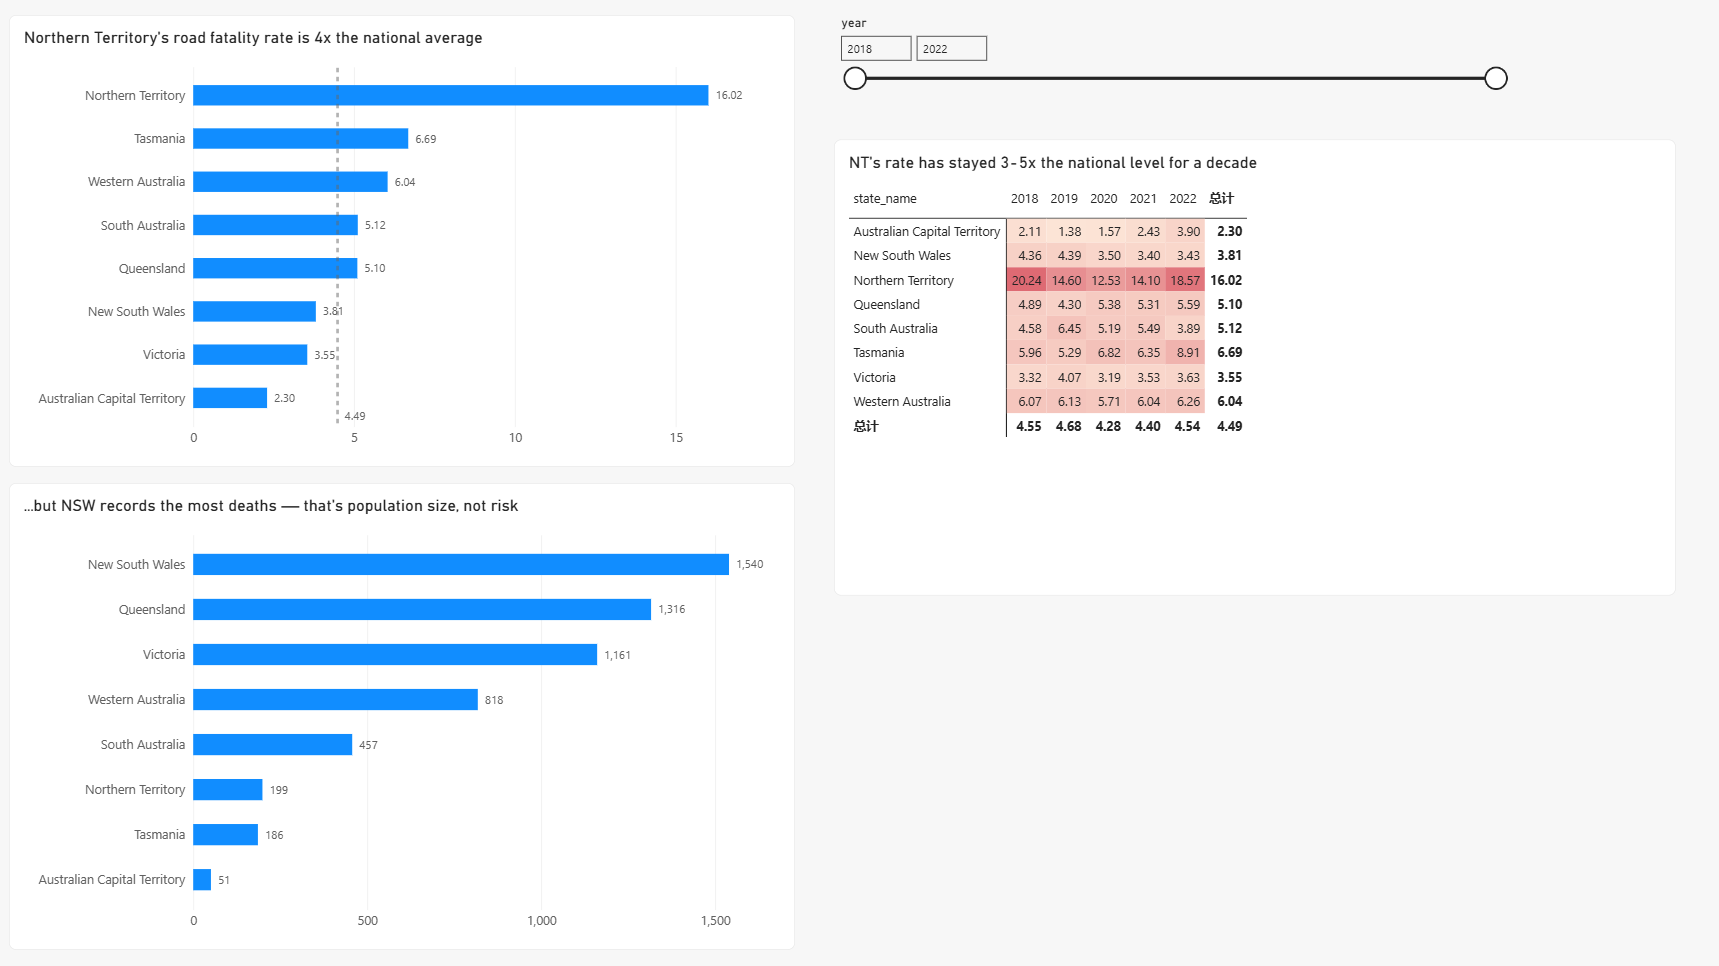

The page's visual inventory and layout, read from the dashboard file:
{"tool":"powerbi","page":{"name":"States","canvas":[1920,1080],"ordinal":1},"visuals":[{"type":"clusteredBarChart","title":"Northern Territory''s road fatality rate is 4x the national average","fields":{"Category":["dim_state.state_name"],"Y":["_Measures.Deaths per 100k"]},"box":[10,20,873.3,501.7],"z":0},{"type":"clusteredBarChart","title":"…but NSW records the most deaths — that''s population size, not risk","fields":{"Category":["dim_state.state_name"],"Y":["_Measures.Total Deaths"]},"box":[10,540,873.3,518.3],"z":1000},{"type":"pivotTable","title":"NT''s rate has stayed 3-5x the national level for a decade","fields":{"Columns":["dim_date.year"],"Rows":["dim_state.state_name"],"Values":["_Measures.Deaths per 100k"]},"box":[926.7,158.3,935,506.7],"z":2000},{"type":"slicer","fields":{"Values":["dim_date.year"]},"box":[926.7,20,751.7,153.3],"z":3000}]}

Visuals, with their boxes in screenshot pixels (x1, y1, x2, y2), scaled from the page's 1920x1080 canvas onto the 1719x966 screenshot:
"Northern Territory''s road fatality rate is 4x the national average" clusteredBarChart: box(9, 18, 791, 467)
"…but NSW records the most deaths — that''s population size, not risk" clusteredBarChart: box(9, 483, 791, 947)
"NT''s rate has stayed 3-5x the national level for a decade" pivotTable: box(830, 142, 1667, 595)
slicer - dim_date.year: box(830, 18, 1503, 155)
